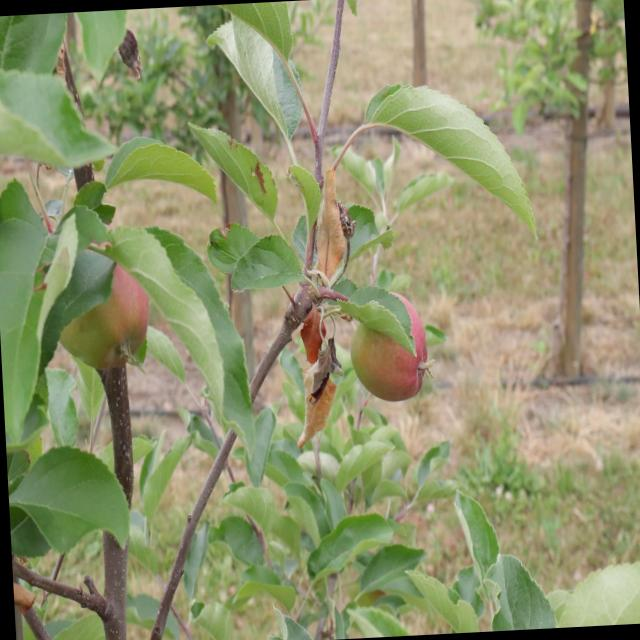-FireBlight-: (299, 156, 356, 284), (300, 320, 344, 440)
